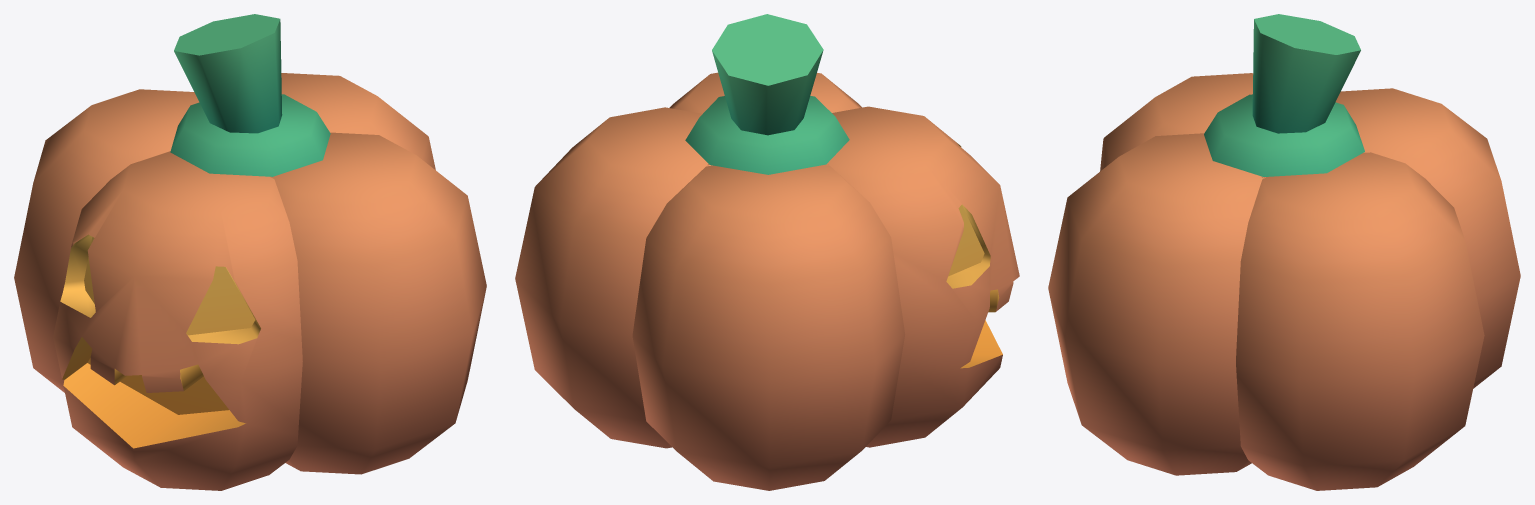
The model's file is pumpkin-carved.003_lev3.glb.
3 views of the same model, side by side, from view 1: azimuth 30°, elevation 25°; view 2: azimuth 150°, elevation 25°; view 3: azimuth 270°, elevation 25° (orthographic).
Visible parts, largest first — view 1: pumpkin-carved.003_lev3; view 2: pumpkin-carved.003_lev3; view 3: pumpkin-carved.003_lev3.
Part boxes in pixels (x1=…): pumpkin-carved.003_lev3: x1=14, y1=14, x2=486, y2=490; pumpkin-carved.003_lev3: x1=515, y1=14, x2=1019, y2=490; pumpkin-carved.003_lev3: x1=1048, y1=14, x2=1520, y2=490.
Size of the model in its own units: 3.36 by 3.09 by 3.36.
1 material, 1 textured.
